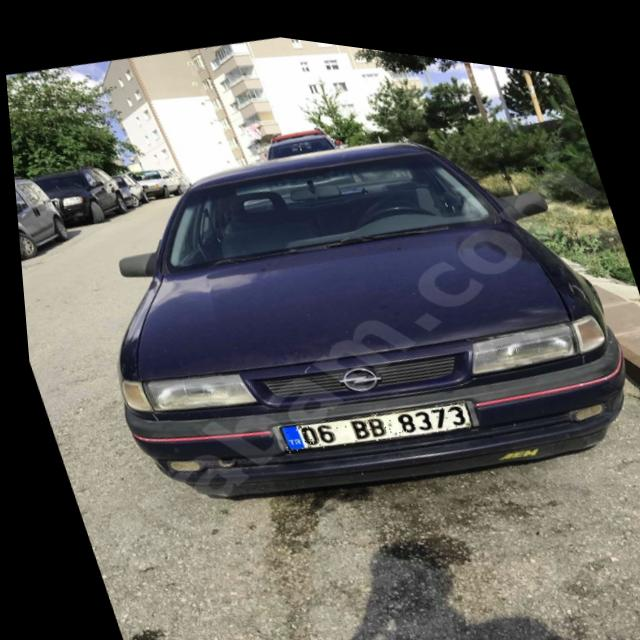license_plate: (267, 368, 472, 466)
